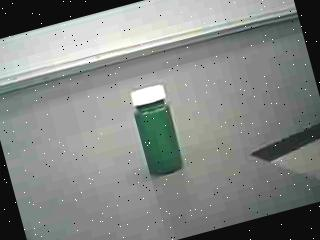Bottle C: (114, 73, 201, 191)
